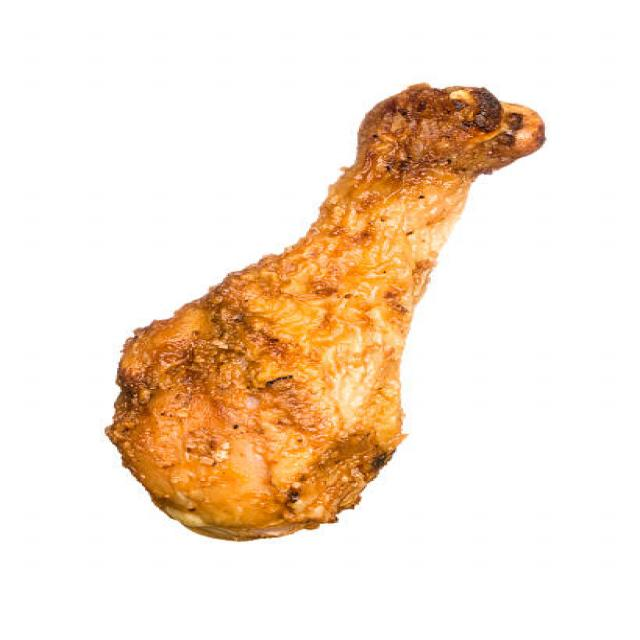Chicken: (80, 86, 551, 548)
